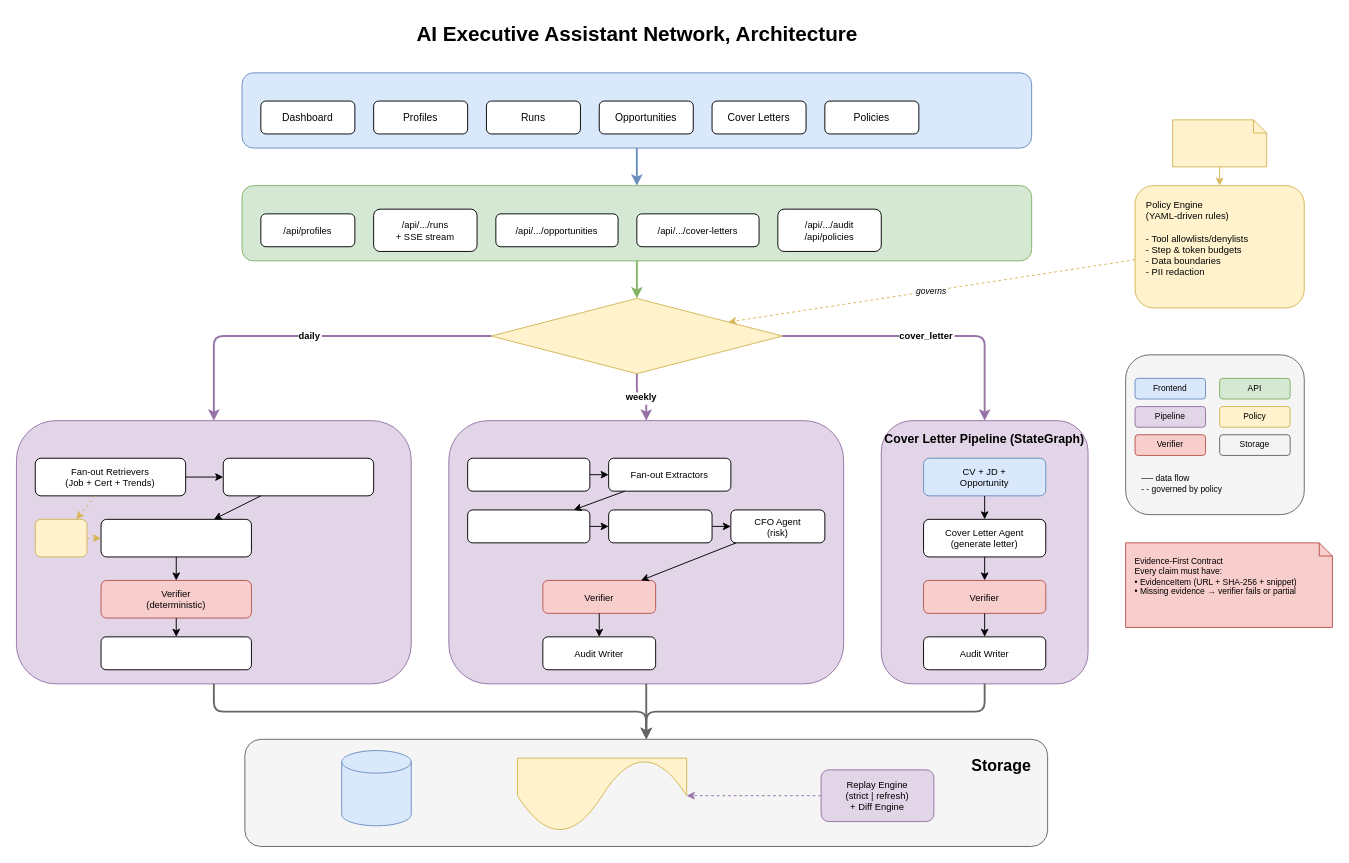
Some shapes in this 1349 by 863 pixel diagram are drawn without their labels. The shapes that lost their labels are listed below. From the top down, each one's box as (x1, y1, x2, y2) in pixels, then its label:
(241, 72, 1032, 148): Frontend (HTMX + Jinja2)
(1172, 119, 1267, 167): /policy/*.yaml
(241, 185, 1032, 261): FastAPI, REST API + SSE
(490, 298, 783, 374): Pipeline Router (mode: daily | weekly | cover_letter)
(1125, 354, 1304, 515): Legend
(222, 457, 374, 496): Fan-out Extractors (Job + Cert + Trends)
(467, 457, 590, 491): Fan-out Retrievers
(34, 518, 87, 557): Safe Degrade
(100, 518, 251, 557): Coordinator (rank + claims)
(467, 509, 590, 543): Coordinator
(608, 509, 712, 543): CEO Agent (strategy)
(16, 420, 411, 684): Daily Pipeline (StateGraph)
(448, 420, 844, 684): Weekly Pipeline (StateGraph)
(100, 636, 251, 670): Audit Writer (JSONL bundle)
(341, 750, 411, 826): PostgreSQL
(517, 757, 687, 833): JSONL Audit Logs artifacts/runs/{run_id}/ audit.jsonl + bundle.json
